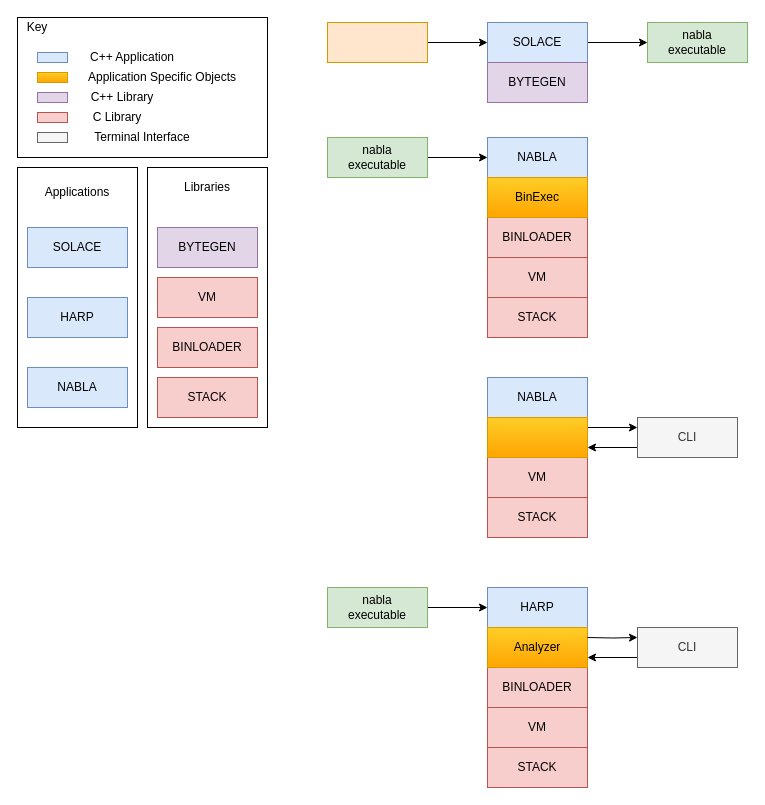
Some shapes in this 765 by 805 pixel diagram are drawn without their labels. The shapes that lost their labels are listed below. From the top down, each one's centre as x and y in pixels, then its label:
At point 377,42: "source .asm".
At point 537,437: "Interpreter".
